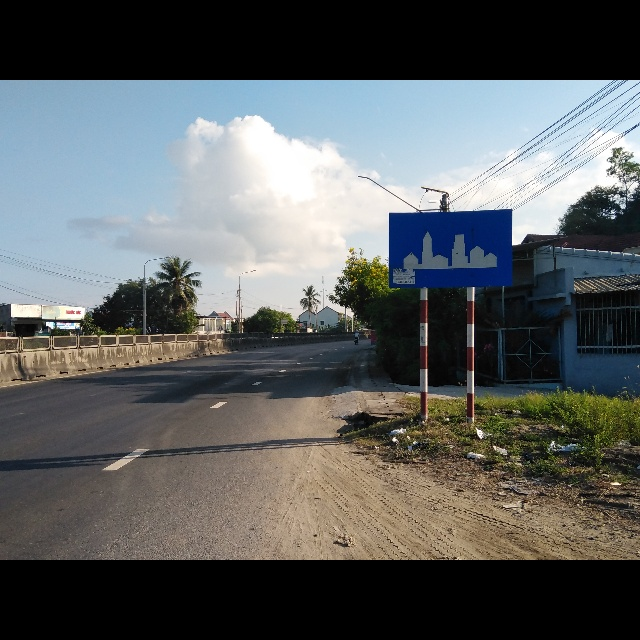Khu đông dân cư: (389, 209, 513, 289)
